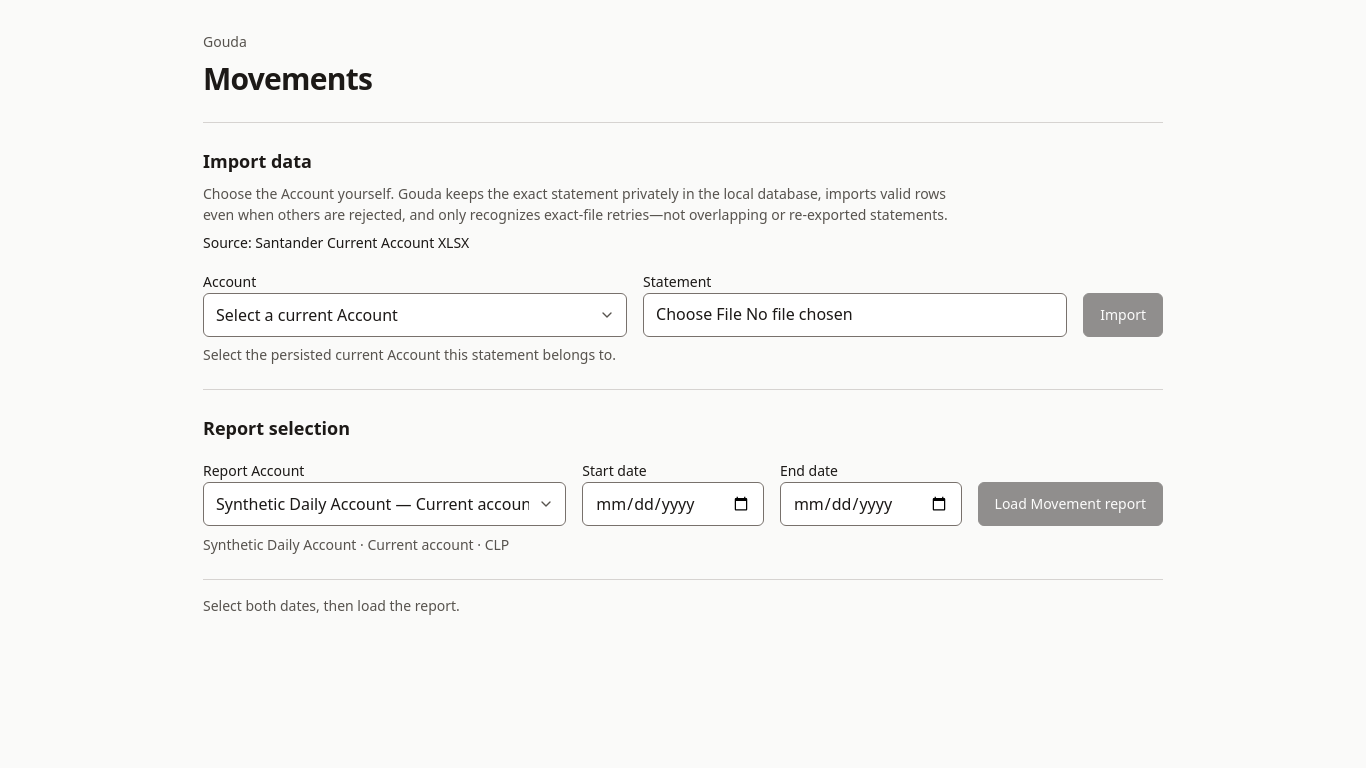
Gouda read-only report flow › renders the canonical count, exact strings, and Movement order returned by the backend
Expected: the dropdown labelled "Report Account" is shown, [203,482,566,526]
Type "2026-04-01" into the date field labelled "Start date".
click(673, 504); type("2026-04-01")  # box [582,482,764,526]
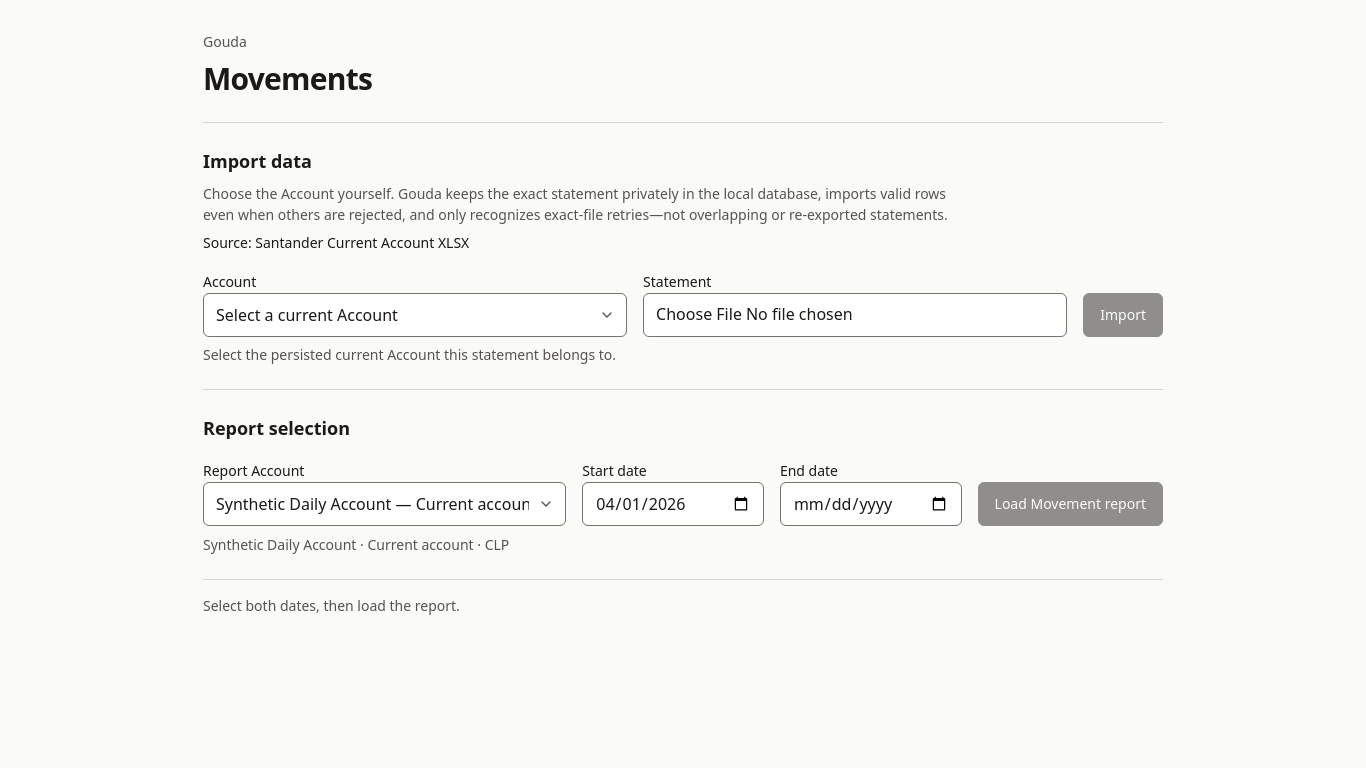
Type "2026-04-30" into the date field labelled "End date".
click(871, 504); type("2026-04-30")  # box [780,482,962,526]
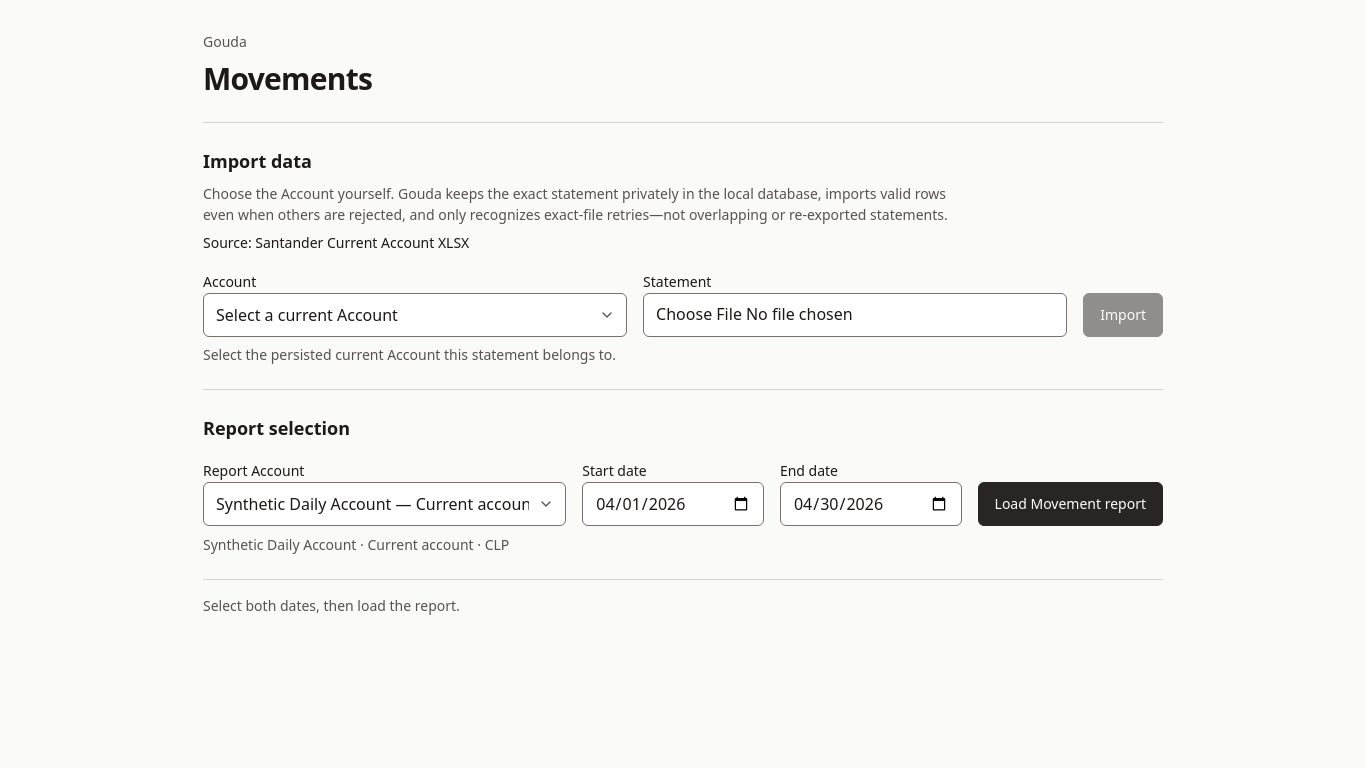
Click the button "Load Movement report".
click(1070, 504)  # box [978,482,1163,526]
(page scrolled)
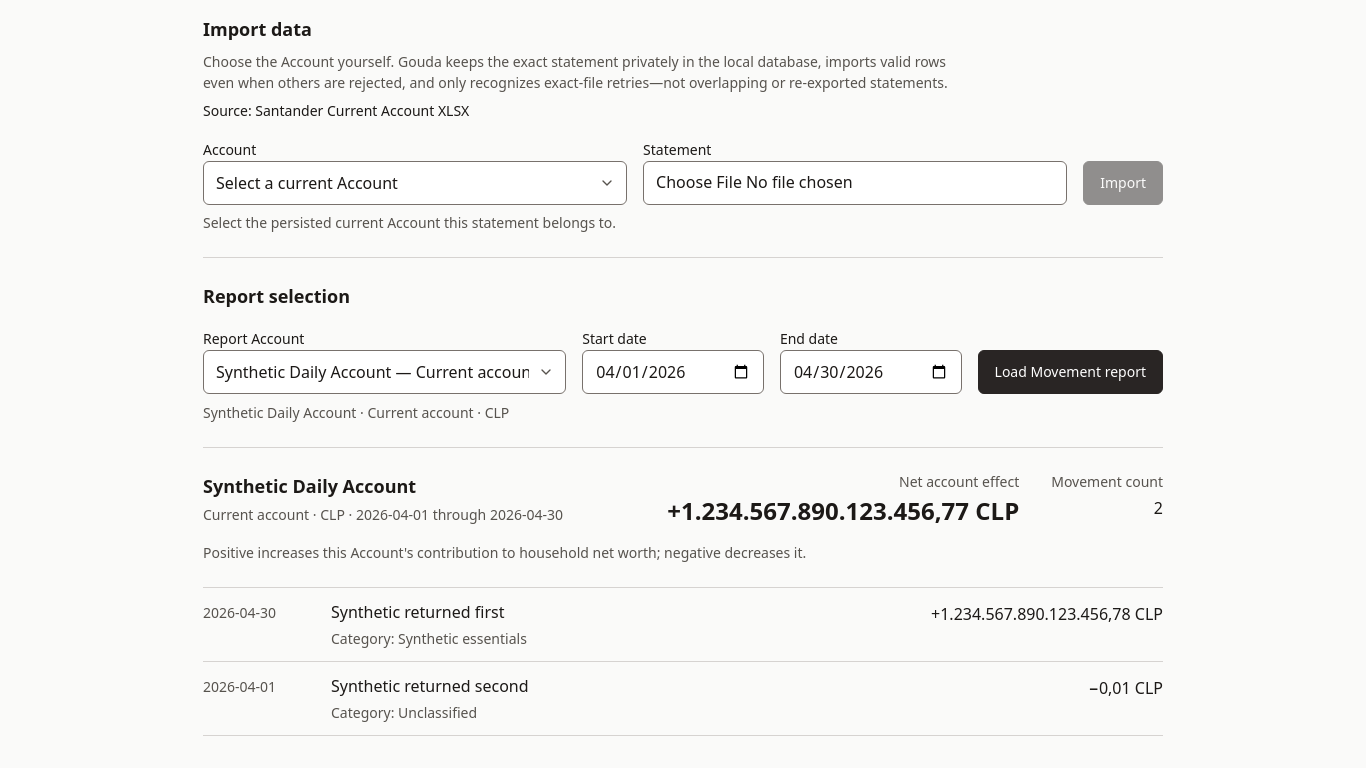
Expected: the text "+1.234.567.890.123.456,77 CLP" is shown, [667,494,1019,526]
Expected: the text "+1.234.567.890.123.456,78 CLP" is shown, [931,602,1163,624]
Expected: the text "−0,01 CLP" is shown, [1088,676,1163,698]
